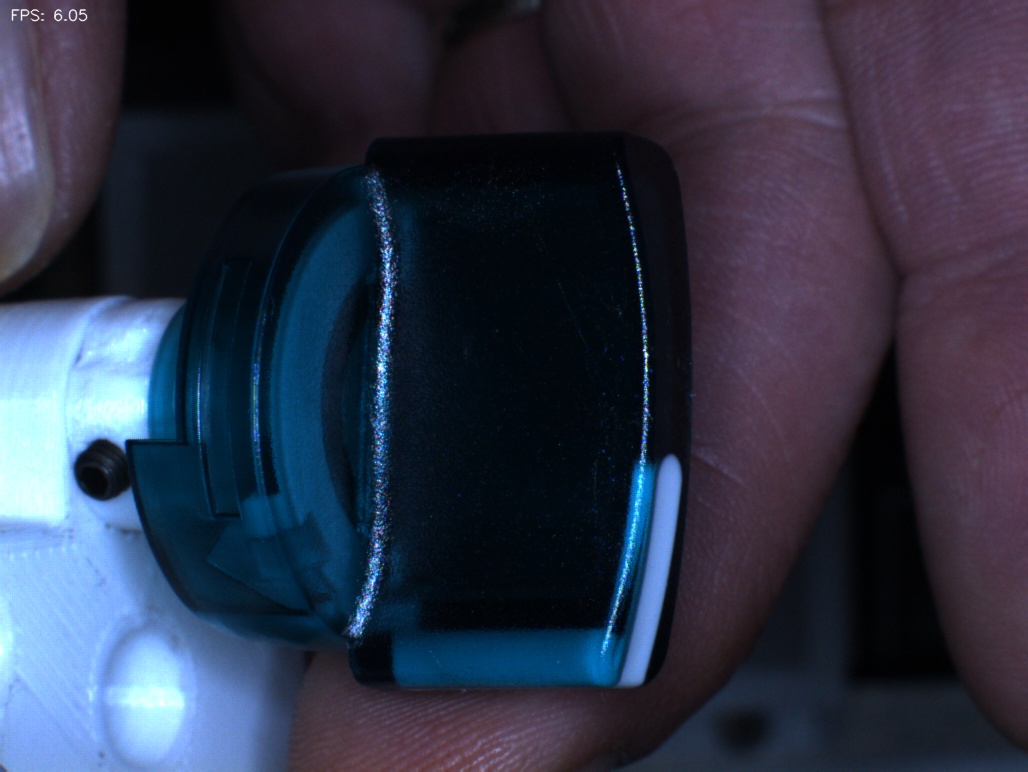Givrage: (527, 207, 637, 409)
